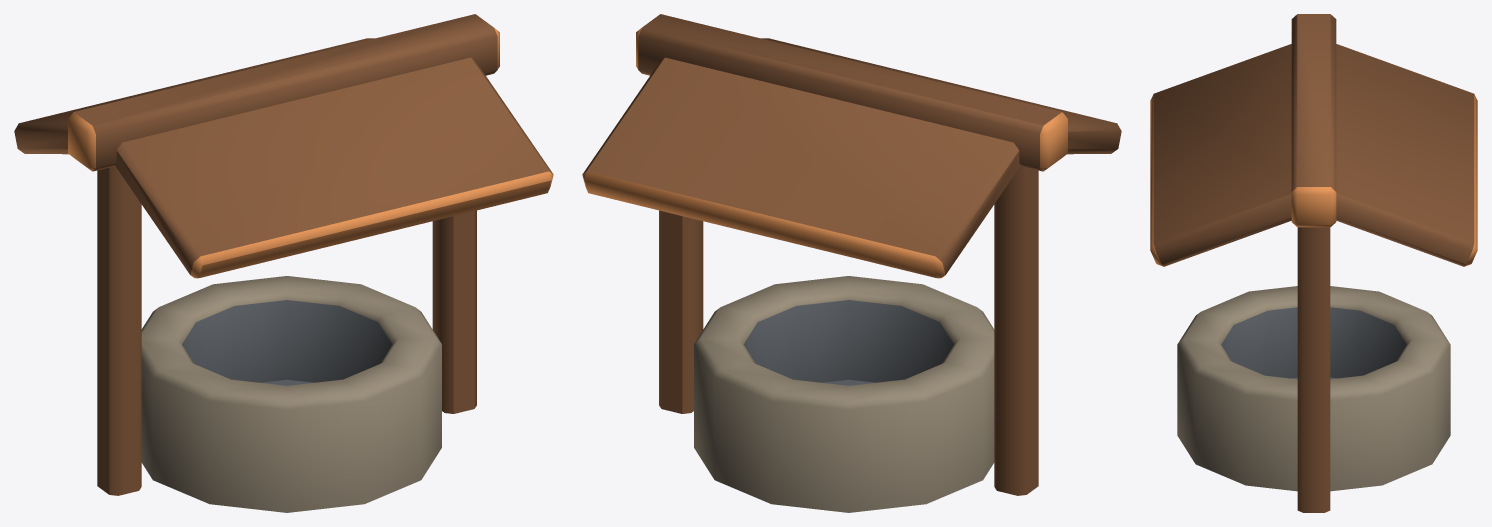
The model's file is Well.fbx.
The picture shows the model from 3 angles, left to right: view 1: azimuth 30°, elevation 25°; view 2: azimuth 150°, elevation 25°; view 3: azimuth 270°, elevation 25°; orthographic projection. The views are drawn at different scales.
Parts seen in each view (by area): view 1: Cylinder.308, Cube.1517, Cube.1516, Cube.1515; view 2: Cylinder.308, Cube.1517, Cube.1516, Cube.1515; view 3: Cube.1517, Cylinder.308, Cube.1515, Cube.1516.
Boxes of the visible parts, x1,y1,x2,y2 form: Cylinder.308: [141, 276, 441, 512]; Cube.1517: [14, 38, 553, 278]; Cube.1516: [97, 166, 476, 495]; Cube.1515: [68, 14, 499, 171]; Cylinder.308: [694, 276, 994, 512]; Cube.1517: [582, 38, 1121, 278]; Cube.1516: [659, 166, 1038, 495]; Cube.1515: [636, 14, 1067, 171]; Cube.1517: [1150, 44, 1477, 266]; Cylinder.308: [1177, 286, 1450, 491]; Cube.1515: [1291, 14, 1336, 227]; Cube.1516: [1297, 227, 1330, 512].
Size of the model in its own units: 56.51 by 49.45 by 43.94.
